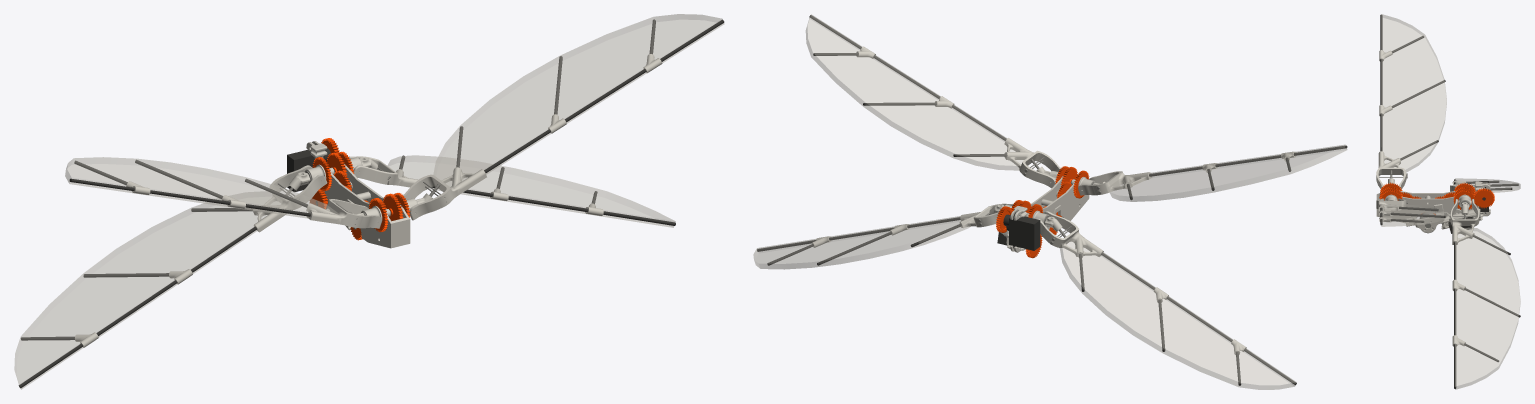
3 views of the same model, side by side, from view 1: azimuth 30°, elevation 25°; view 2: azimuth 150°, elevation 25°; view 3: azimuth 270°, elevation 25° (orthographic). The views are drawn at different scales.
Parts seen in each view (by area): view 1: wingfoam-3, Coupling-5, ServoMotor-3, Metric - Spur gear 0.5M 36-10T 20PA 1.7-3.6FW ---S36-10N75H5; view 2: wingfoam-3, Coupling-5, ServoMotor-3, Metric - Spur gear 0.5M 36-10T 20PA 1.7-3.6FW ---S36-10N75H5; view 3: wingfoam-3, Coupling-5, ServoMotor-3, Metric - Spur gear 0.5M 36-10T 20PA 1.7-3.6FW ---S36-10N75H5, Niddle-5.
Part boxes in pixels (<box>): wingfoam-3: <box>14,14,724,389</box>; Coupling-5: <box>75,54,662,347</box>; ServoMotor-3: <box>18,19,724,388</box>; Metric - Spur gear 0.5M 36-10T 20PA 1.7-3.6FW ---S36-10N75H5: <box>310,138,410,240</box>; wingfoam-3: <box>753,14,1347,389</box>; Coupling-5: <box>812,46,1295,354</box>; ServoMotor-3: <box>757,15,1347,385</box>; Metric - Spur gear 0.5M 36-10T 20PA 1.7-3.6FW ---S36-10N75H5: <box>996,166,1089,258</box>; wingfoam-3: <box>1381,14,1520,389</box>; Coupling-5: <box>1376,50,1490,346</box>; ServoMotor-3: <box>1380,14,1520,388</box>; Metric - Spur gear 0.5M 36-10T 20PA 1.7-3.6FW ---S36-10N75H5: <box>1379,182,1494,214</box>; Niddle-5: <box>1378,170,1480,230</box>.
Size of the model in its own units: 0.423 by 0.1556 by 0.1218.
